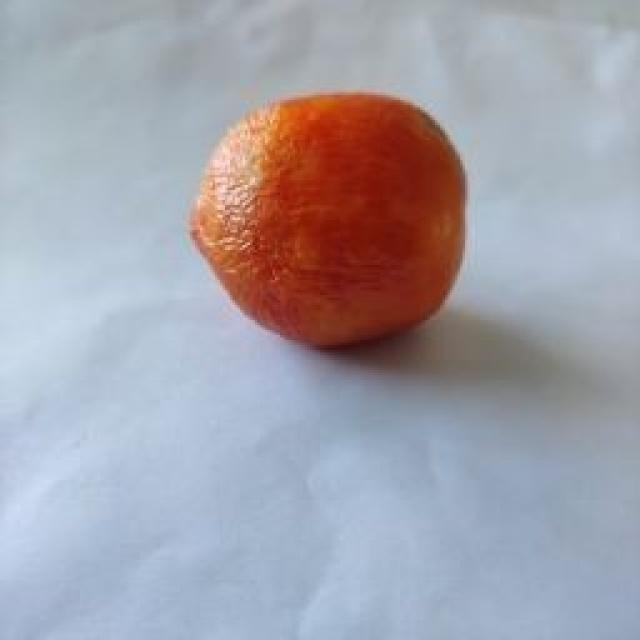overripe: (189, 87, 472, 352)
